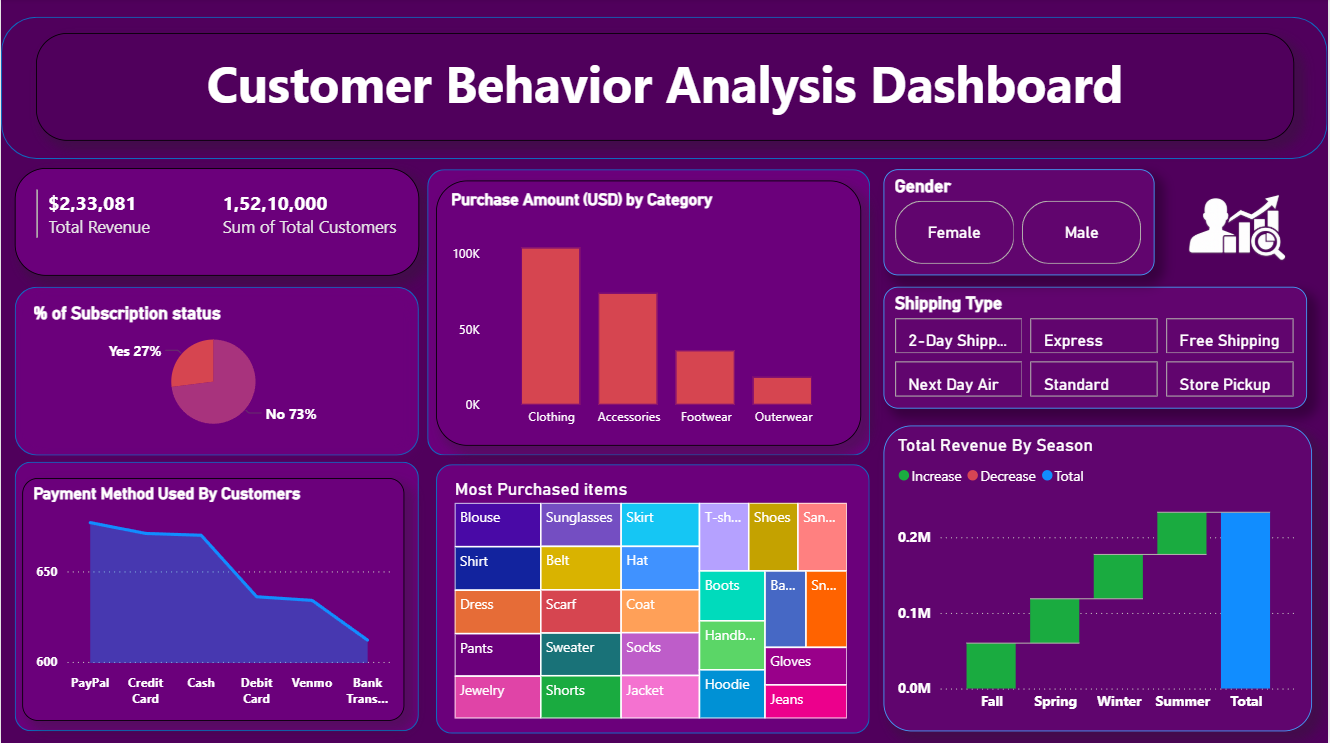

This screenshot's page, from the dashboard's own definition file:
{"tool":"powerbi","page":{"name":"Page 1","canvas":[1280,720],"ordinal":0},"visuals":[{"type":"shape","box":[0,17.8,1280.3,137.2],"z":0},{"type":"textbox","box":[34.3,34.3,1214.4,104.3],"z":1000},{"type":"multiRowCard","fields":{"Values":["cleaned_customer_shopping_behavior.Total Revenue","Sum(cleaned_customer_shopping_behavior.Total Customers)"]},"box":[12.9,164.3,390,104.3],"z":2000},{"type":"shape","box":[12.9,278.6,390,162.9],"z":3000},{"type":"pieChart","title":"% of Subscription status","fields":{"Category":["cleaned_customer_shopping_behavior.Subscription Status"],"Y":["CountNonNull(cleaned_customer_shopping_behavior.Customer ID)"]},"box":[20,288.6,368.6,144.3],"z":4000},{"type":"shape","box":[411.2,165,427.5,276.2],"z":5000},{"type":"clusteredColumnChart","title":"Purchase Amount (USD) by Category","fields":{"Category":["cleaned_customer_shopping_behavior.Category"],"Y":["Sum(cleaned_customer_shopping_behavior.Purchase Amount (USD))"]},"box":[420,176.2,410,256.2],"z":6000},{"type":"shape","box":[12.9,447.1,390,260],"z":7000},{"type":"areaChart","title":"Payment Method Used By Customers","fields":{"Category":["cleaned_customer_shopping_behavior.Payment Method"],"Y":["CountNonNull(cleaned_customer_shopping_behavior.Customer ID)"]},"box":[20,462.9,368.6,234.3],"z":8000},{"type":"shape","box":[420,450,418.6,260],"z":9000},{"type":"treemap","title":"Most Purchased items","fields":{"Values":["Sum(cleaned_customer_shopping_behavior.Purchase Amount (USD))"],"Group":["cleaned_customer_shopping_behavior.Item Purchased"]},"box":[432.9,462.9,388.6,237.1],"z":10000},{"type":"waterfallChart","title":"Total Revenue By Season","fields":{"Category":["cleaned_customer_shopping_behavior.Season"],"Y":["cleaned_customer_shopping_behavior.Total Revenue"]},"box":[851.2,412.5,413.8,295],"z":11000},{"type":"advancedSlicerVisual","fields":{"Values":["cleaned_customer_shopping_behavior.Shipping Type"]},"box":[851.2,278.8,408.8,117.5],"z":12000},{"type":"advancedSlicerVisual","fields":{"Values":["cleaned_customer_shopping_behavior.Gender"]},"box":[851.2,165,261.2,102.5],"z":13000},{"type":"image","box":[1122.5,155,142.5,141.2],"z":13001}]}

Visuals, with their boxes in screenshot pixels (x1, y1, x2, y2), scaled from the page's 1280x720 canvas onto the 1330x743 screenshot:
shape: 0/18/1329/160
textbox: 36/35/1297/143
multiRowCard - cleaned_customer_shopping_behavior.Total Revenue x Sum(cleaned_customer_shopping_behavior.Total Customers): 13/170/419/277
shape: 13/287/419/456
"% of Subscription status" pieChart: 21/298/404/447
shape: 427/170/871/455
"Purchase Amount (USD) by Category" clusteredColumnChart: 436/182/862/446
shape: 13/461/419/730
"Payment Method Used By Customers" areaChart: 21/478/404/719
shape: 436/464/871/733
"Most Purchased items" treemap: 450/478/854/722
"Total Revenue By Season" waterfallChart: 884/426/1314/730
advancedSlicerVisual - cleaned_customer_shopping_behavior.Shipping Type: 884/288/1309/409
advancedSlicerVisual - cleaned_customer_shopping_behavior.Gender: 884/170/1156/276
image: 1166/160/1314/306
